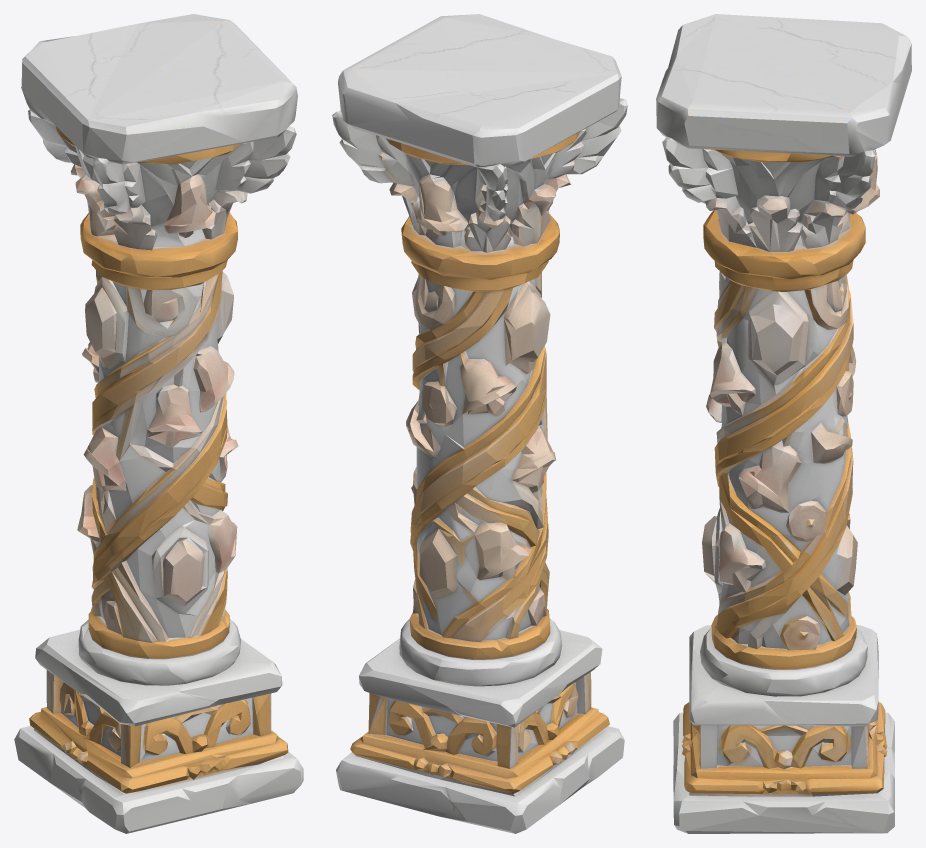
Rendered from wh_marble_pillar.fbx.
3 views of the same model, side by side, from view 1: azimuth 30°, elevation 25°; view 2: azimuth 150°, elevation 25°; view 3: azimuth 270°, elevation 25° (orthographic). The views are drawn at different scales.
Parts seen in each view (by area): view 1: wh_marble_pillar; view 2: wh_marble_pillar; view 3: wh_marble_pillar.
Part boxes in pixels (bbox=[...]): wh_marble_pillar: bbox=[14, 14, 303, 833]; wh_marble_pillar: bbox=[332, 14, 627, 833]; wh_marble_pillar: bbox=[656, 14, 911, 833].
Bounding box in the file's own units: 2.23 × 7 × 2.24.
